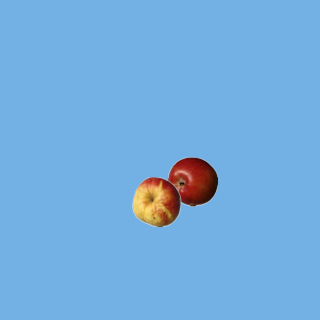Apple Braeburn: (167, 156, 217, 206)
Apple Red Yellow 1: (131, 176, 181, 226)
